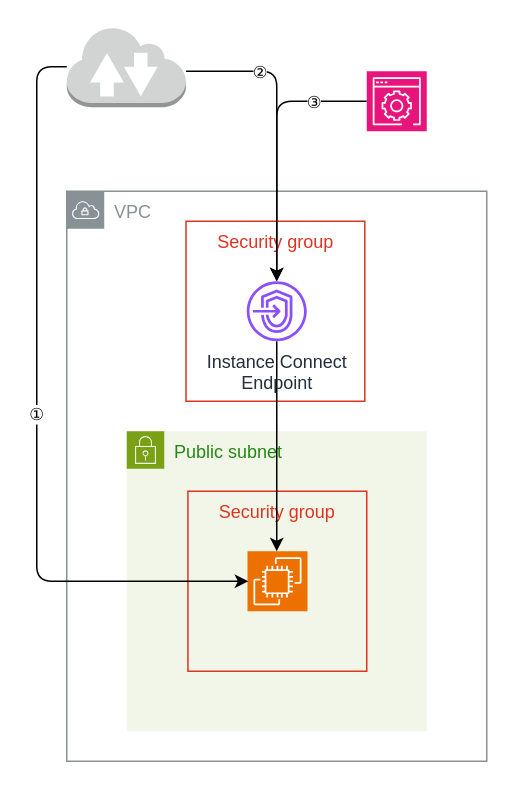
This 513x788 diagram has some shape labels left out. Each missing label, with the centre of its shape:
Instance: the point at 277,580
Internet: the point at 125,66
